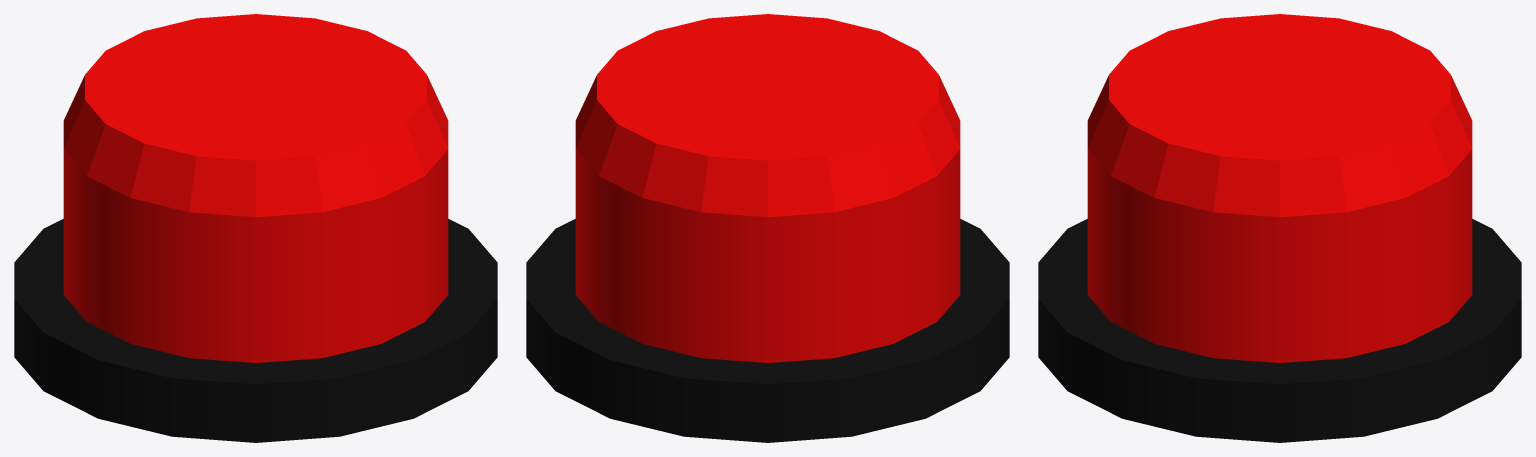
File: alarm.FBX
3 views of the same model, side by side, from view 1: azimuth 30°, elevation 25°; view 2: azimuth 150°, elevation 25°; view 3: azimuth 270°, elevation 25° (orthographic).
Parts seen in each view (by area): view 1: Cylinder002, Cylinder003; view 2: Cylinder002, Cylinder003; view 3: Cylinder002, Cylinder003.
Part boxes in pixels (x1,y1,x2,y2): Cylinder002: (63,14,448,362); Cylinder003: (14,219,497,442); Cylinder002: (575,14,960,362); Cylinder003: (526,219,1009,442); Cylinder002: (1087,14,1472,362); Cylinder003: (1038,219,1521,442).
Bounding box in the file's own units: 253 × 143 × 249.
